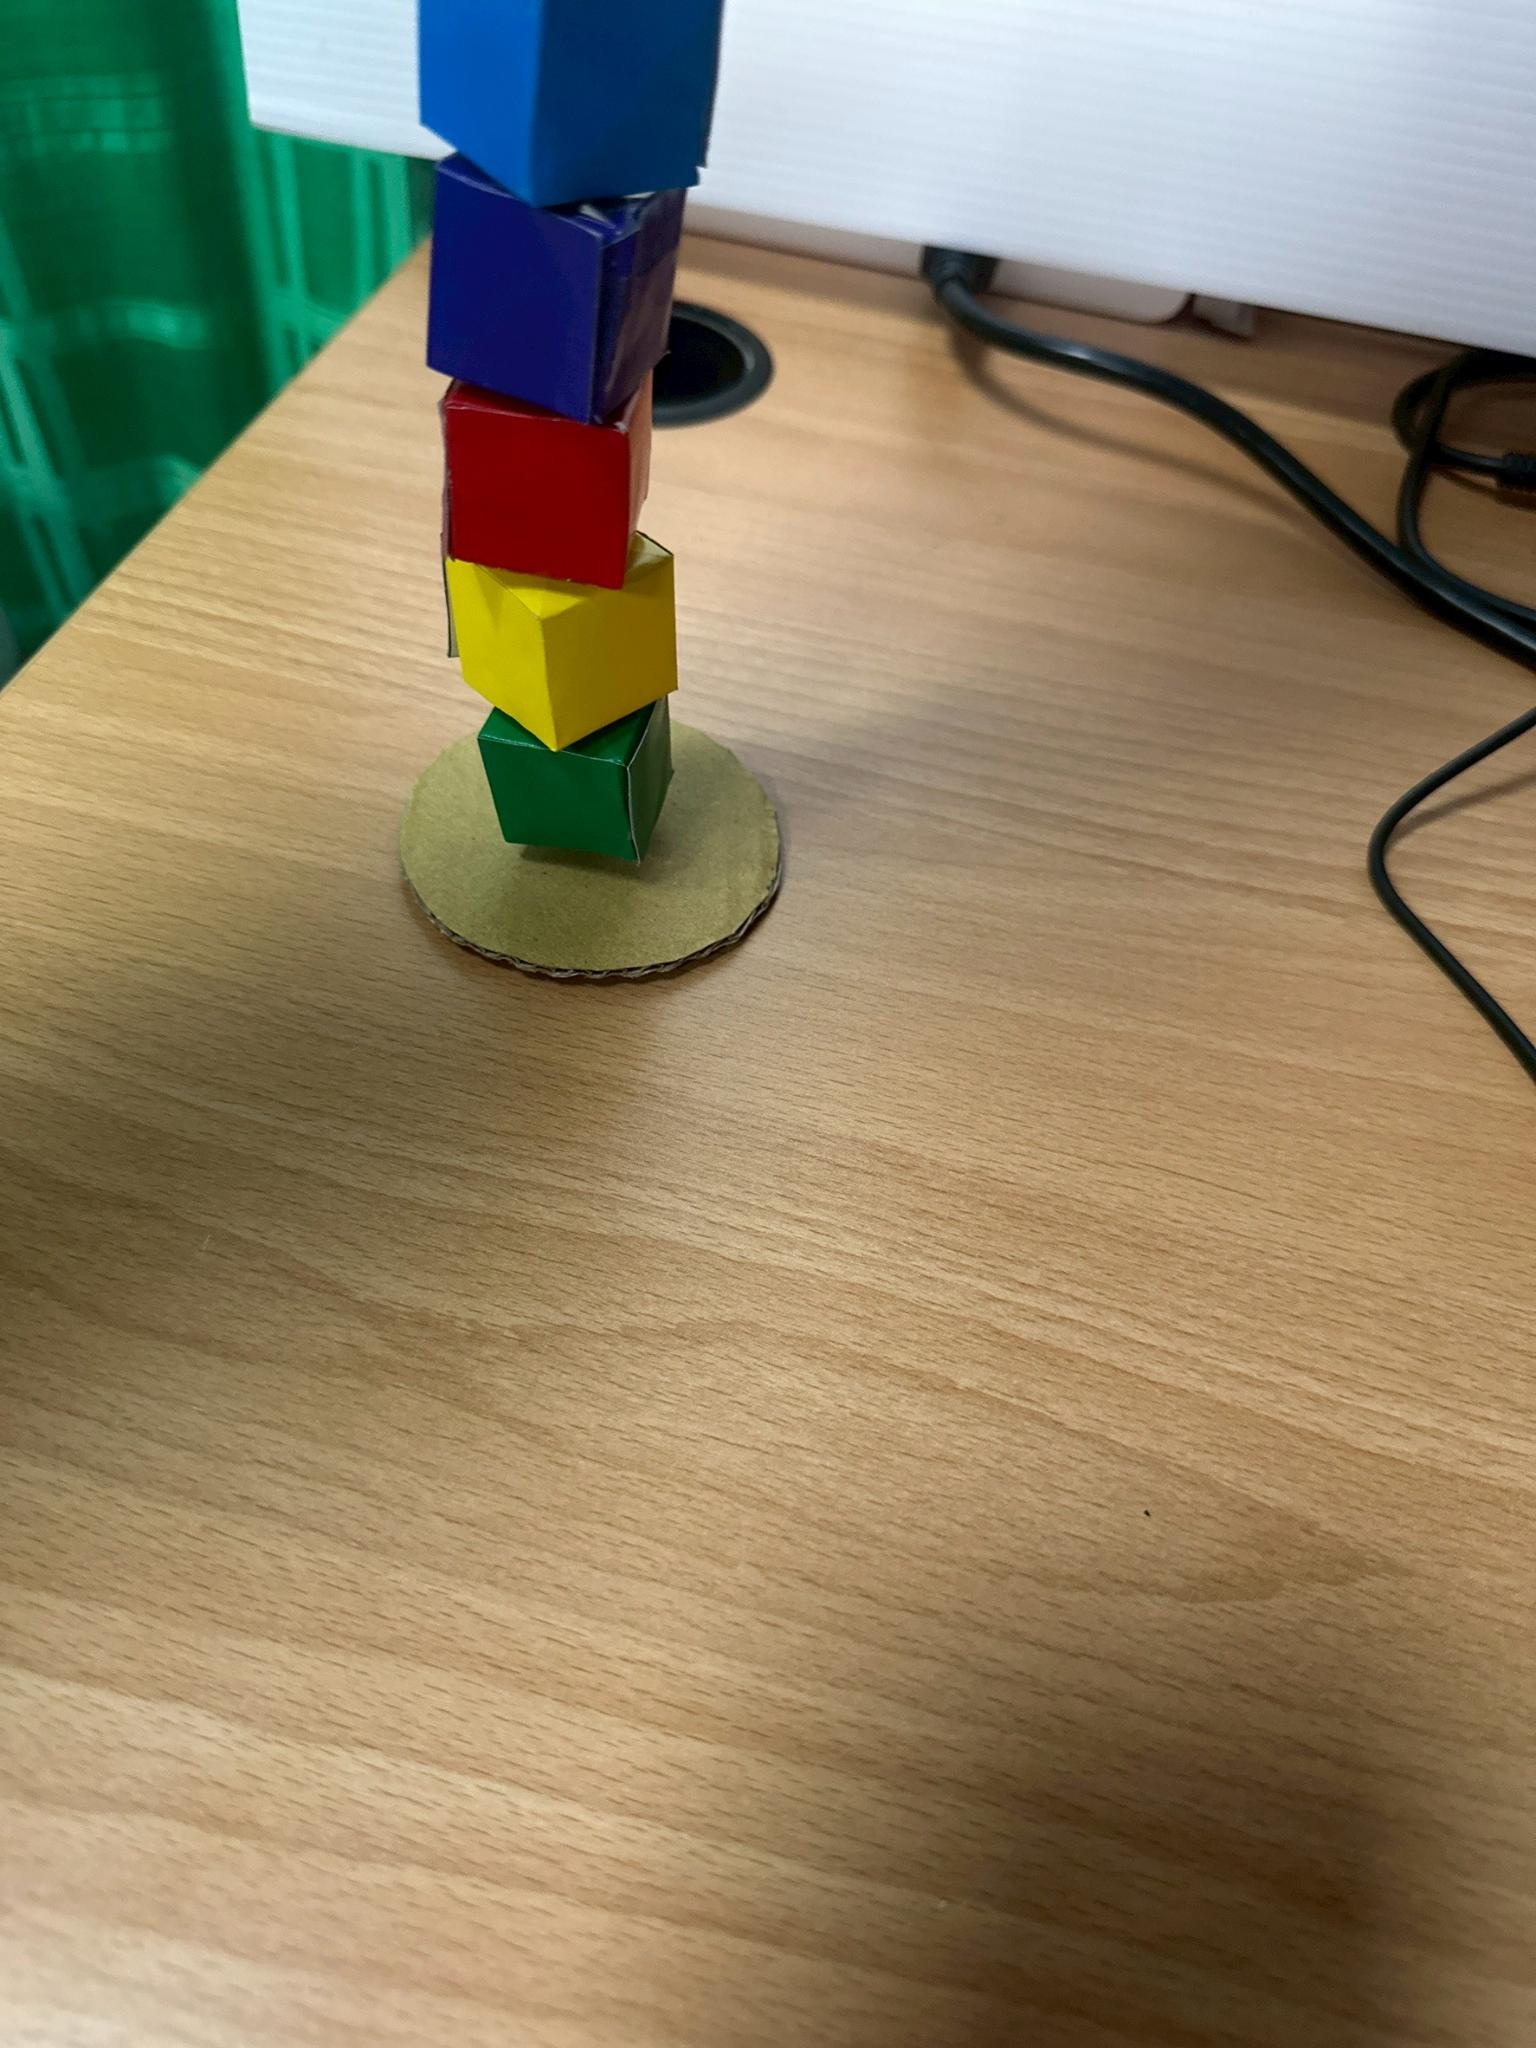base: (400, 719, 781, 976)
